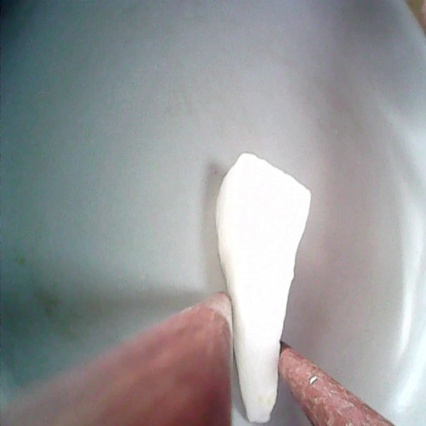white_chinese-yam: (212, 152, 322, 426)
